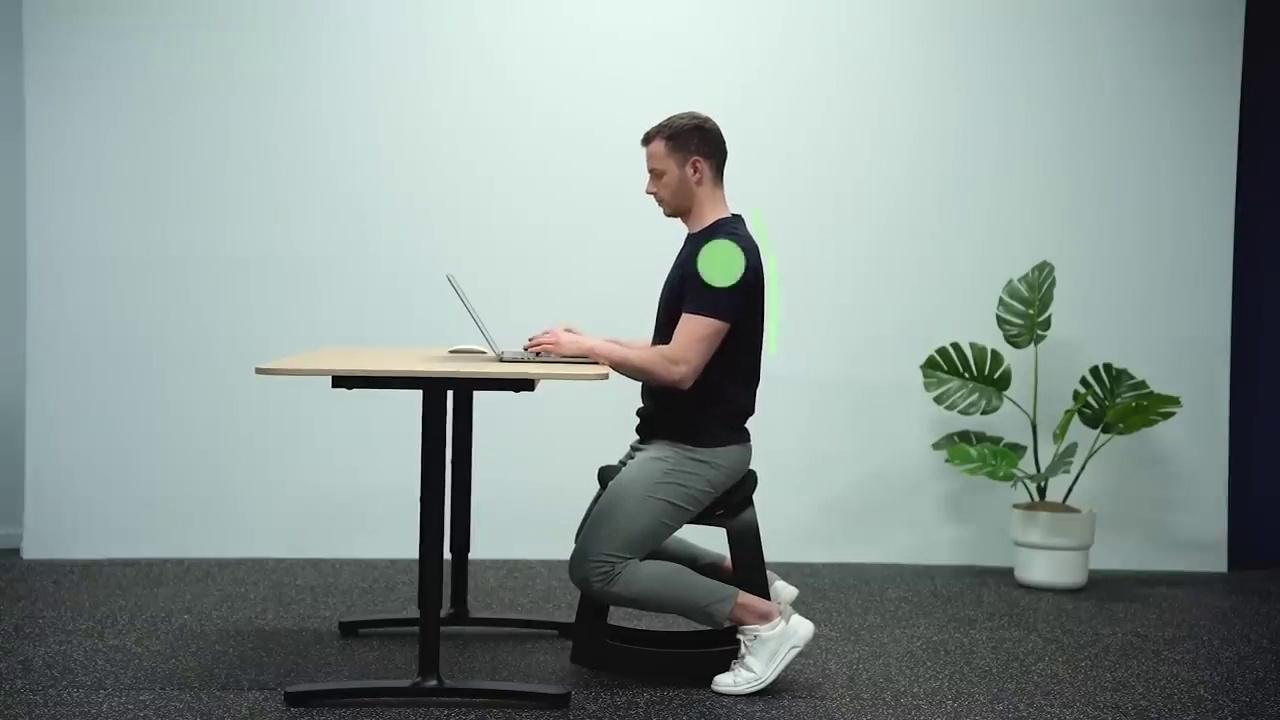GoodPosture: (524, 112, 814, 694)
